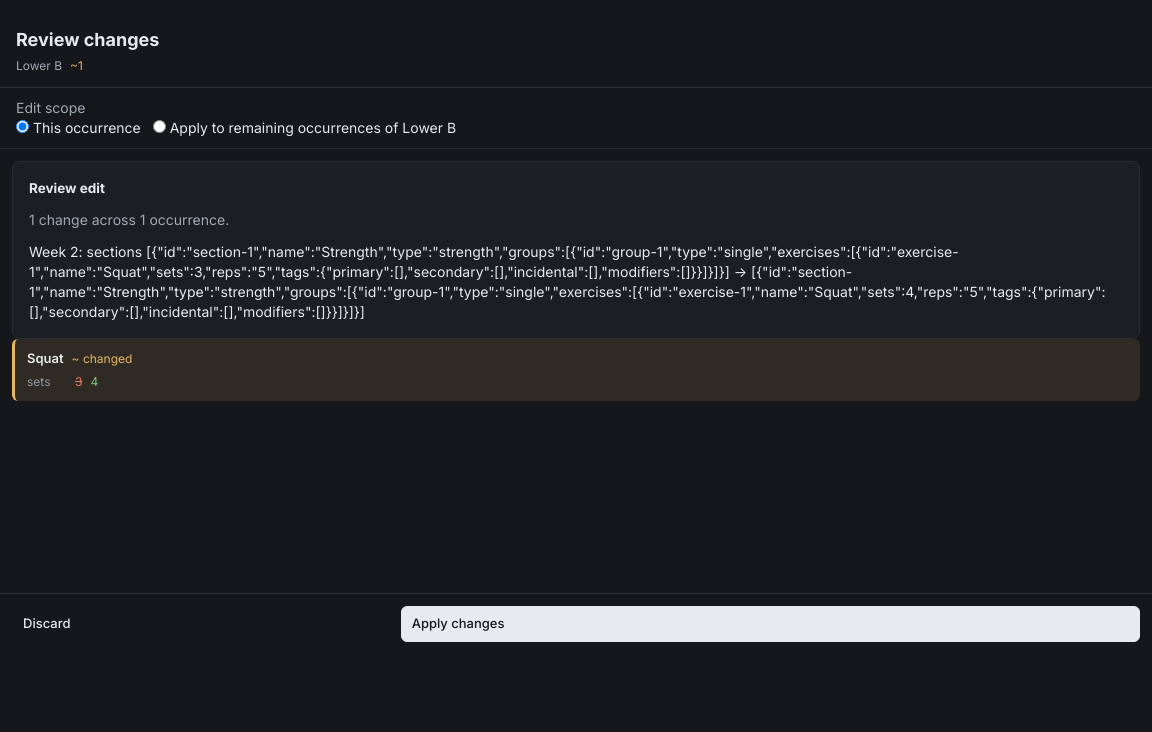
DiffPage › keeps the preview and enables retry after a persistence failure
This screenshot has width=1152, height=732.
Step 1. Click the button "Apply changes" → (458, 623), box [401,606,1140,642]
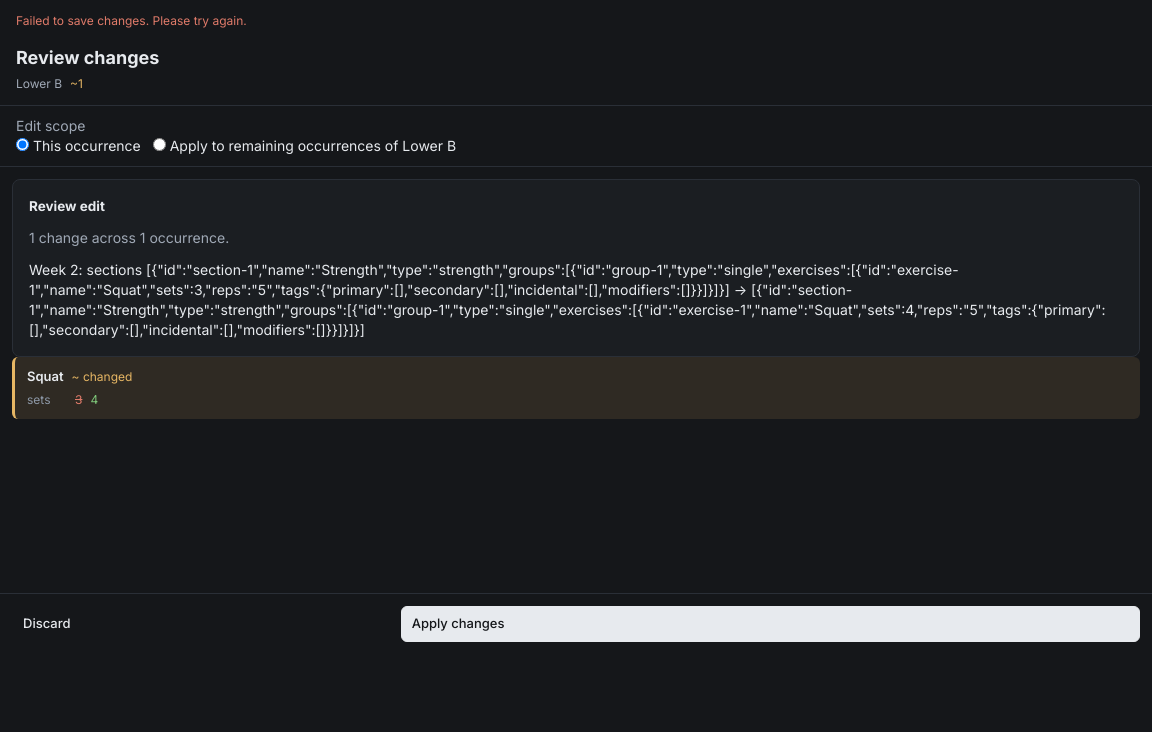
Check: the text "Failed to save changes. Please try again." is shown, box [16,13,247,28]
